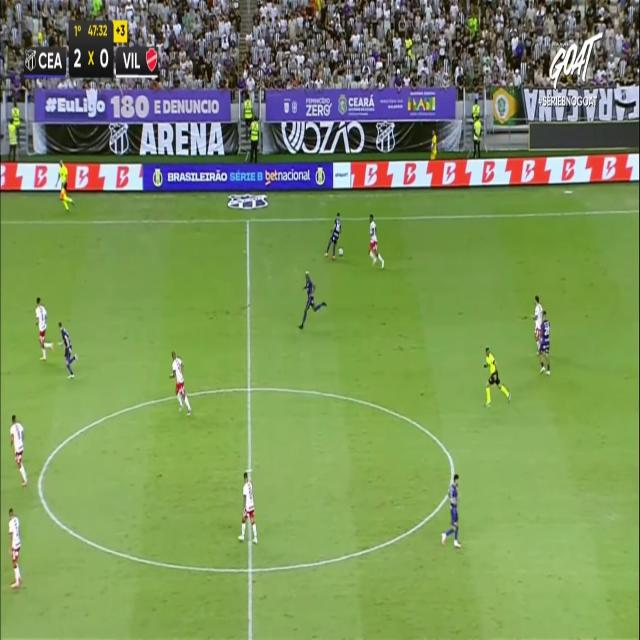ball: (339, 245, 346, 261)
player: (298, 269, 326, 329), (441, 473, 461, 547), (237, 471, 257, 544), (169, 350, 191, 415), (10, 413, 28, 486), (35, 296, 54, 360), (57, 321, 77, 379), (8, 507, 22, 588), (368, 214, 384, 270), (538, 309, 551, 375), (324, 212, 341, 260), (533, 294, 543, 355)
referee: (482, 346, 510, 406), (54, 158, 74, 211)
